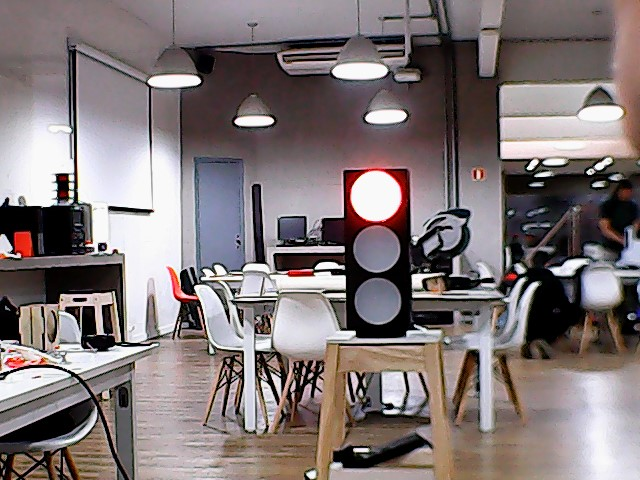vermelho: (337, 165, 418, 341)
